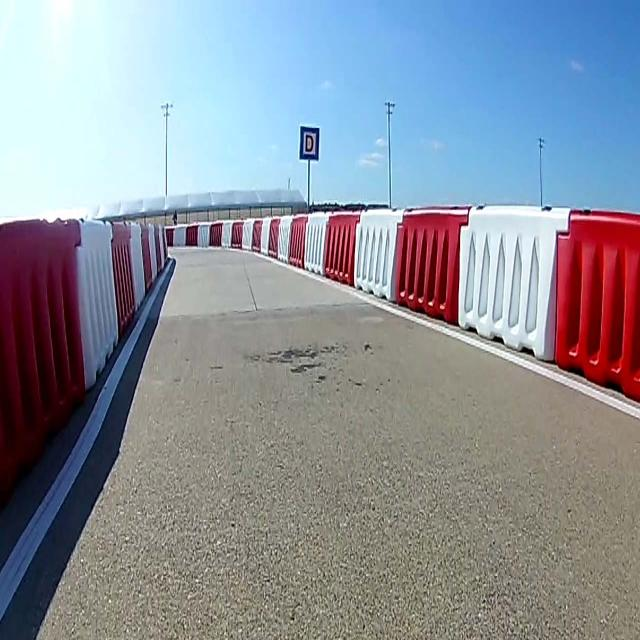durak: (299, 126, 319, 161)
